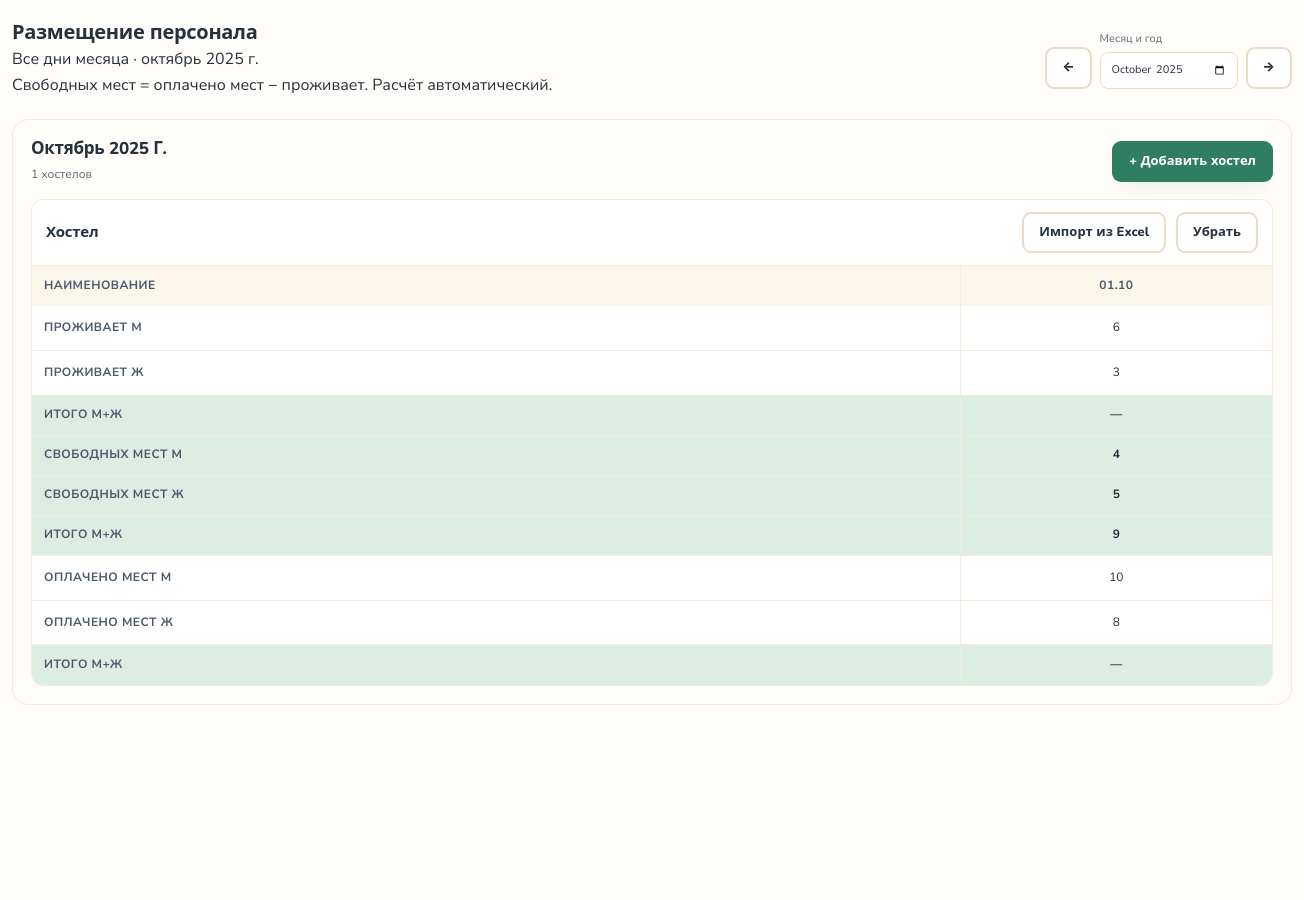
it: Размещение персонала › показывает свободные места только для чтения и обновляет расчёт после изменения исходной ячейки
The image size is (1304, 900).
Expected: the text "4" is shown, [1113,446,1120,462]
Expected: the text "5" is shown, [1113,486,1120,502]
Replace the text in the field named "Хостел, Оплачено мест М, 01.10.2025" with "12": (1116, 578) [1092,562,1141,594]
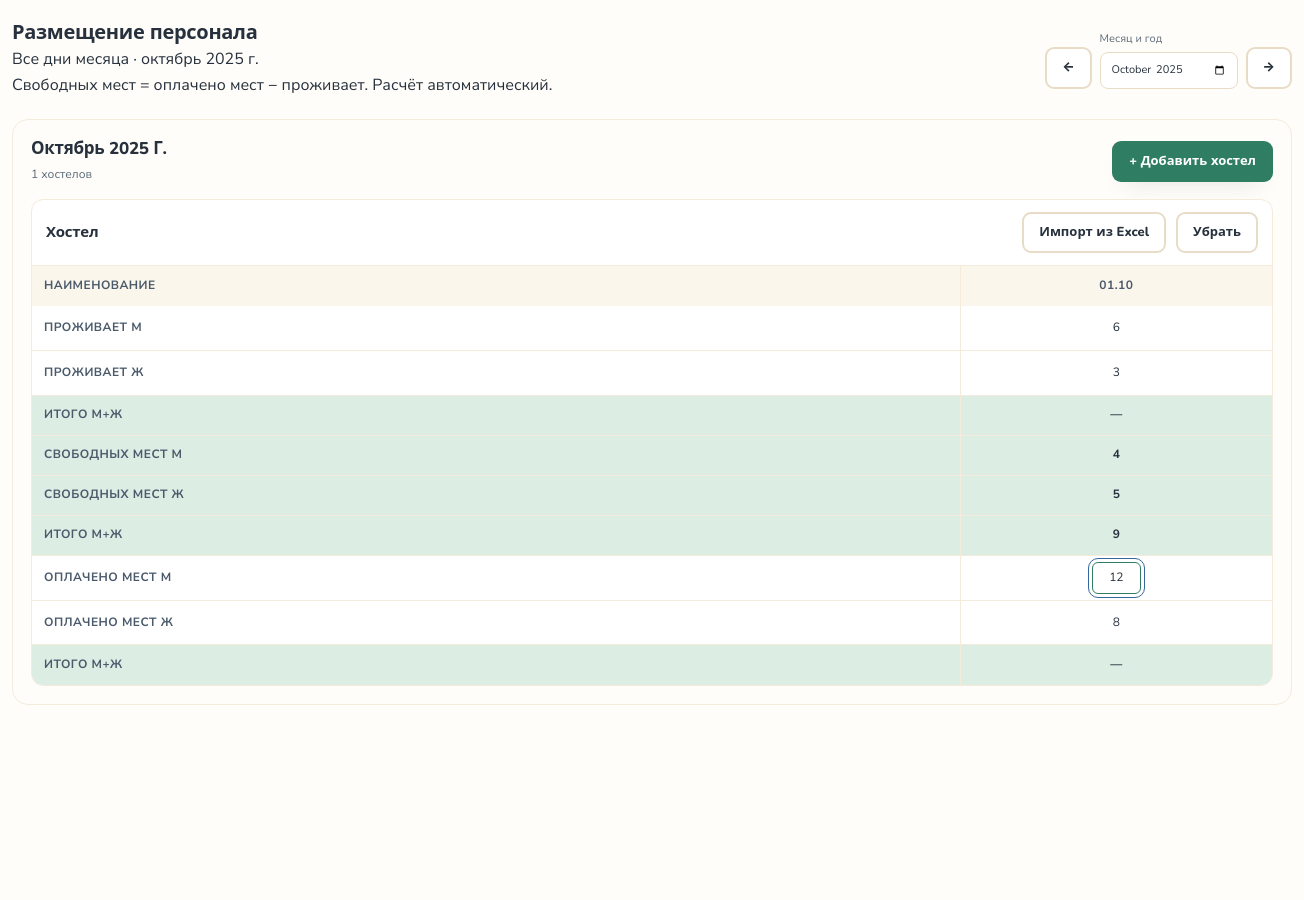
Press Tab
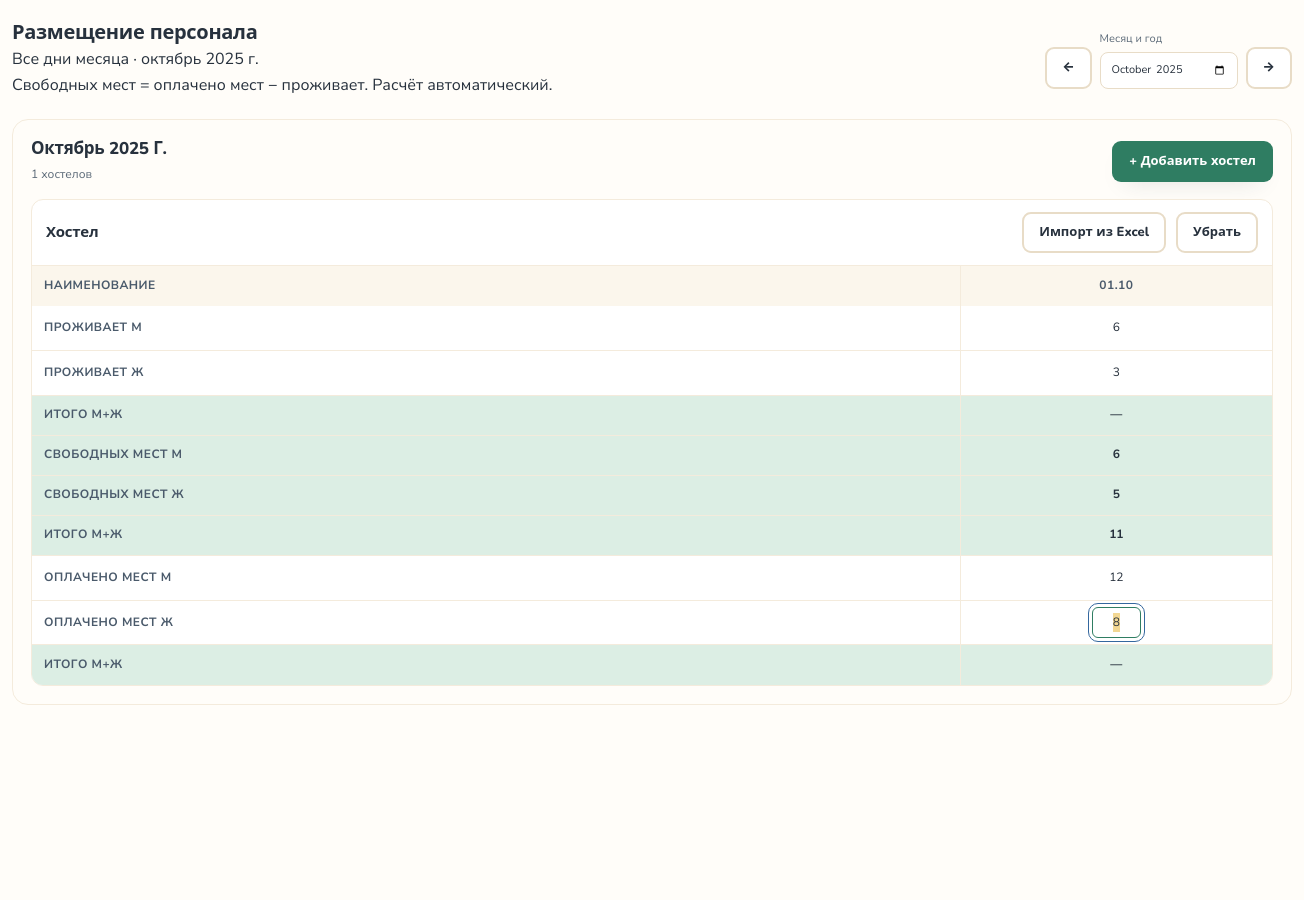
Expected: the text "5" is shown, [1113,486,1120,502]
Now the text "6" is shown, box [1113,446,1120,462]
Now the text "11" is shown, box [1109,526,1124,542]
Clear the field named "Хостел, Оплачено мест М, 01.10.2025": (1116, 578) [1092,562,1141,594]
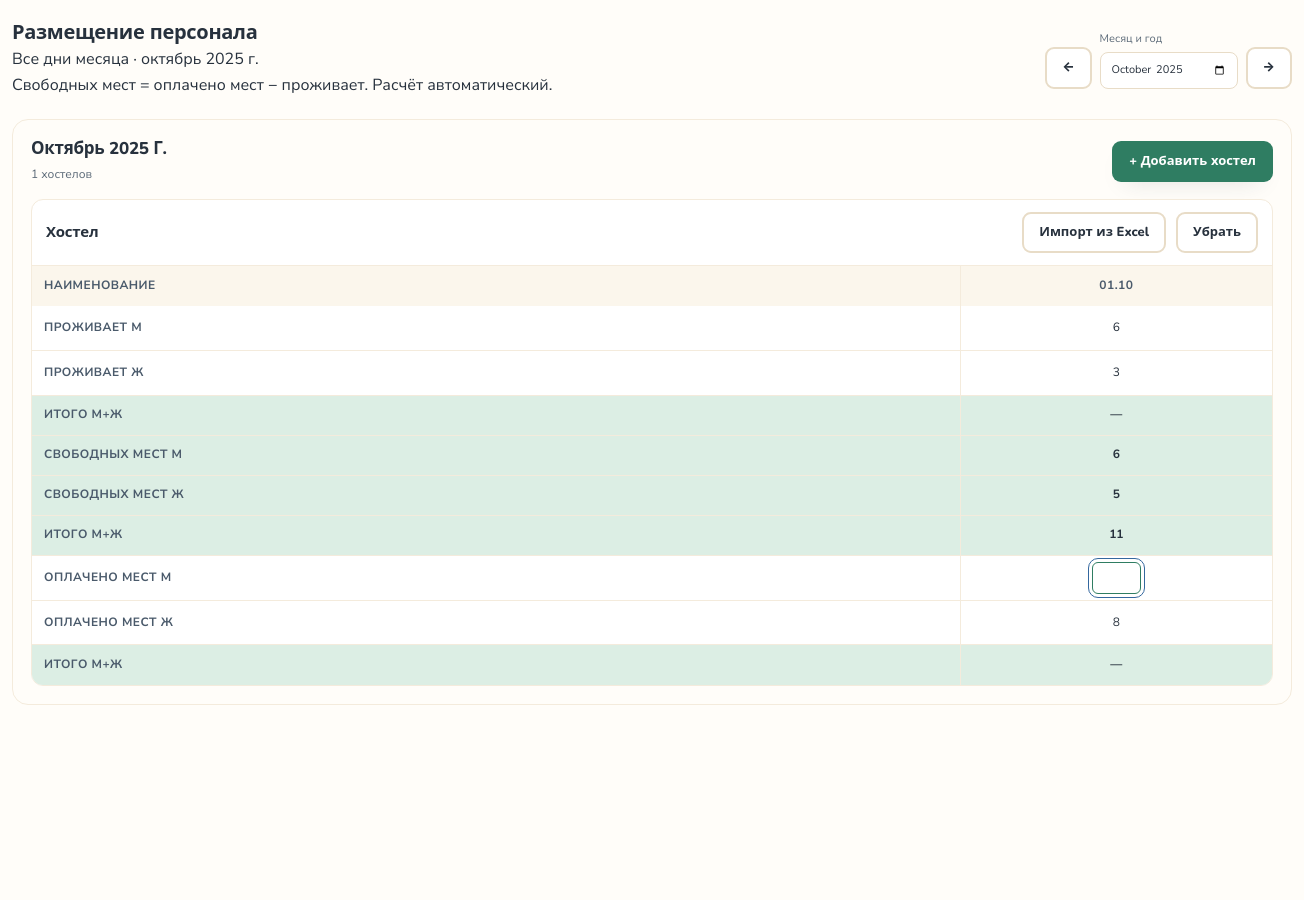
Press Tab
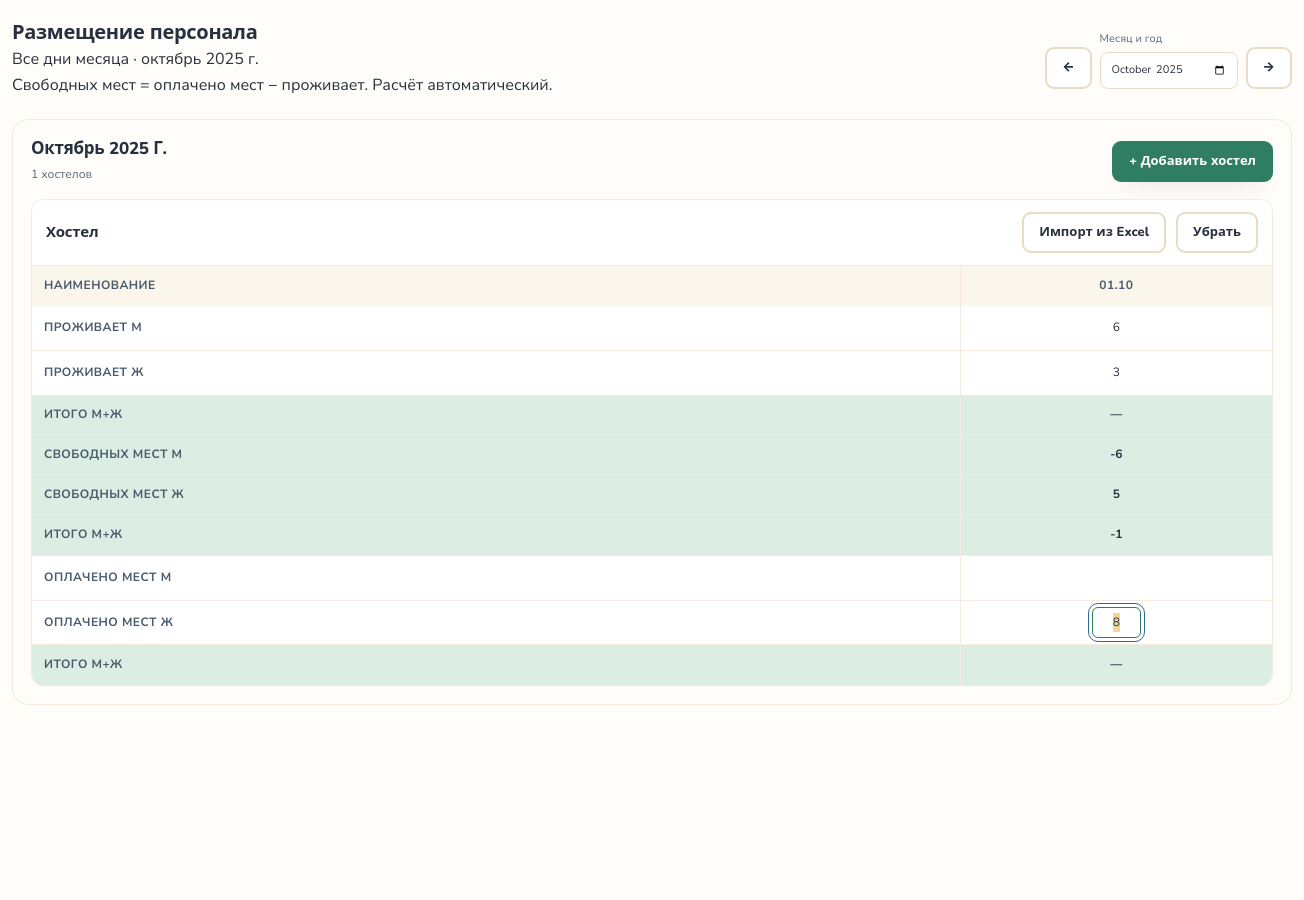
Now the text "-6" is shown, box [1110,446,1123,462]
Now the text "-1" is shown, box [1110,526,1123,542]
